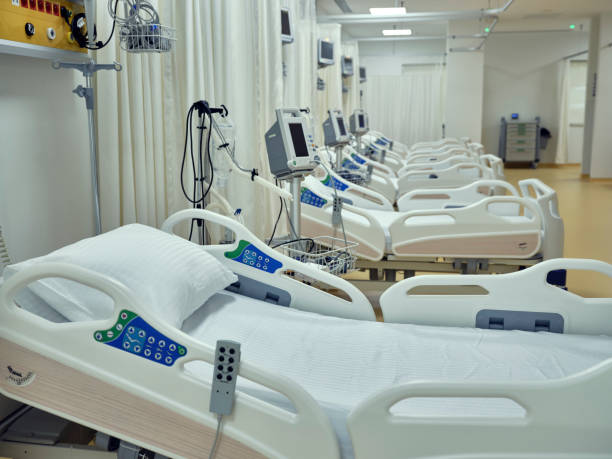TV: (280, 1, 294, 46), (315, 37, 335, 67), (343, 56, 354, 79)
bedrail: (1, 266, 612, 459), (5, 272, 225, 456), (220, 367, 612, 459), (158, 209, 376, 323), (378, 256, 612, 336), (171, 217, 374, 306), (379, 252, 612, 323), (321, 131, 408, 198), (396, 180, 522, 214), (396, 137, 482, 180), (321, 162, 393, 211)
bedside_monitor: (278, 117, 319, 169), (330, 113, 351, 144), (354, 110, 368, 132)
curtain: (99, 3, 289, 237), (297, 3, 355, 132), (373, 69, 442, 136), (555, 59, 573, 167)
foot_board: (516, 178, 566, 259), (463, 136, 505, 180)
hospital_bed: (1, 211, 564, 459), (287, 181, 542, 262)
iv_pole: (51, 58, 127, 229)
medical_drawer: (500, 115, 540, 168)
waste_bin: (540, 127, 552, 150)
